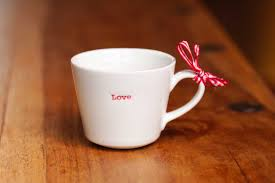cup: (68, 44, 209, 152)
